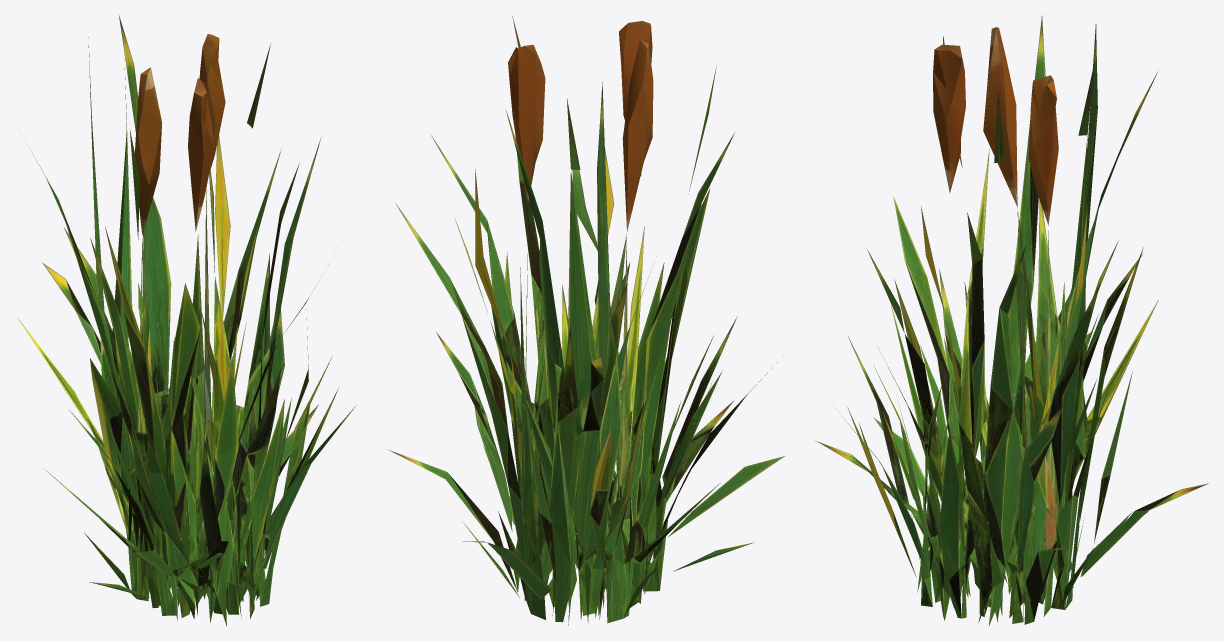
File: Reeds.glb
3 renders of one model, left to right at view 1: azimuth 30°, elevation 25°; view 2: azimuth 150°, elevation 25°; view 3: azimuth 270°, elevation 25°, orthographic. The views are drawn at different scales.
Bounding box in the file's own units: 0.803 × 1.3 × 0.8478.
1 material, 1 textured.
